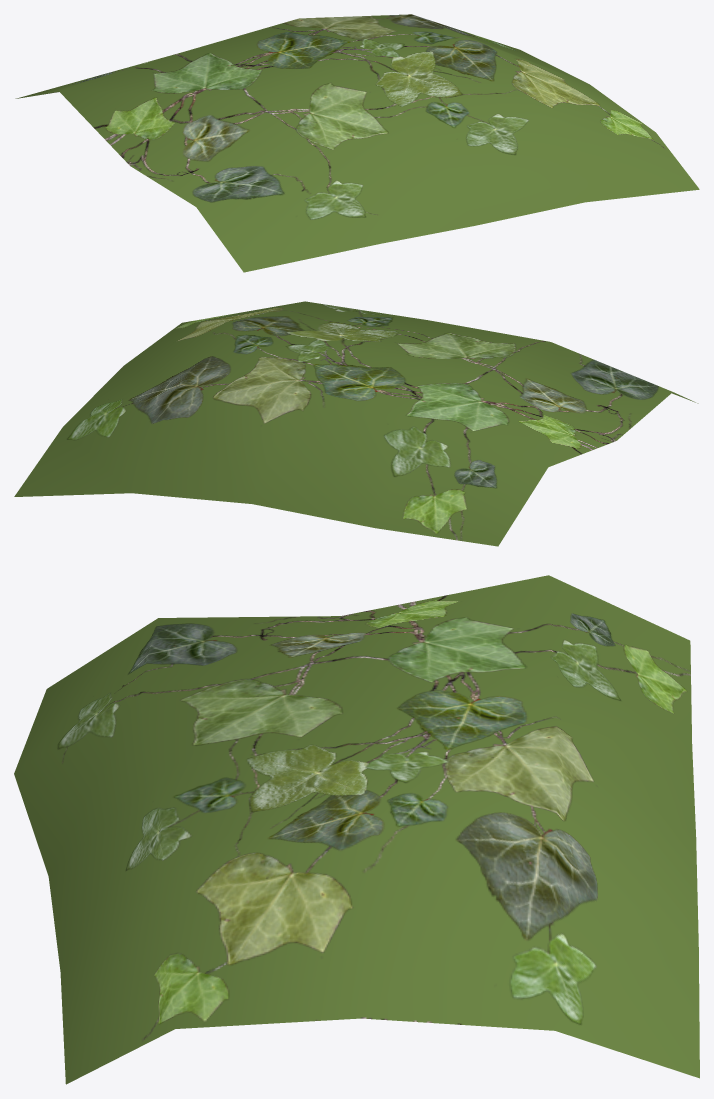
File: ivy.fbx
3 renders of one model, top to bottom at view 1: azimuth 30°, elevation 25°; view 2: azimuth 150°, elevation 25°; view 3: azimuth 270°, elevation 25°, orthographic. The views are drawn at different scales.
Parts seen in each view (by area): view 1: ivy; view 2: ivy; view 3: ivy.
Boxes of the visible parts, box(x1,y1,x2,y2) form: ivy: box(15, 14, 699, 272); ivy: box(14, 301, 698, 546); ivy: box(14, 575, 699, 1084).
Bounding box in the file's own units: 118 × 27.35 × 95.7.
1 material, 1 textured.
